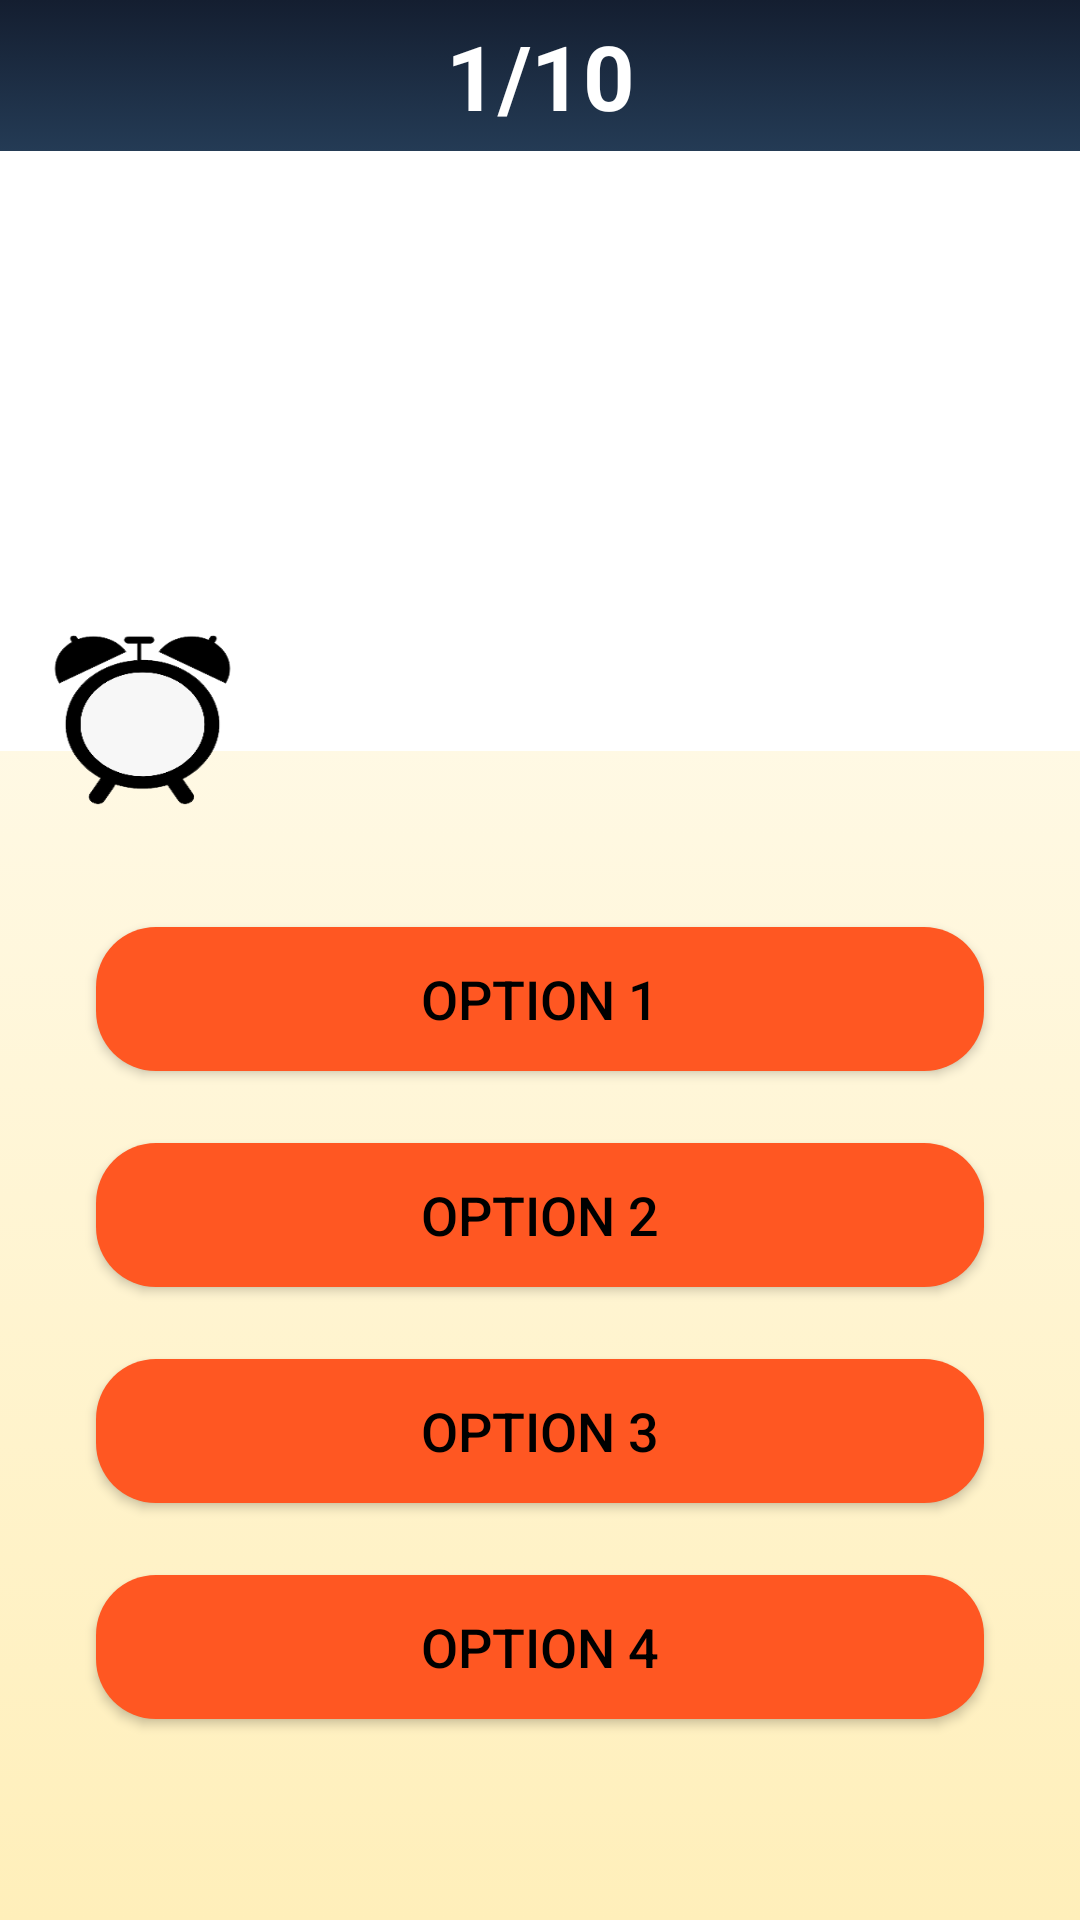

Where to tap for icons on this 1080×1920 app screen, as [x,y]:
countdownclock: [142,725]
